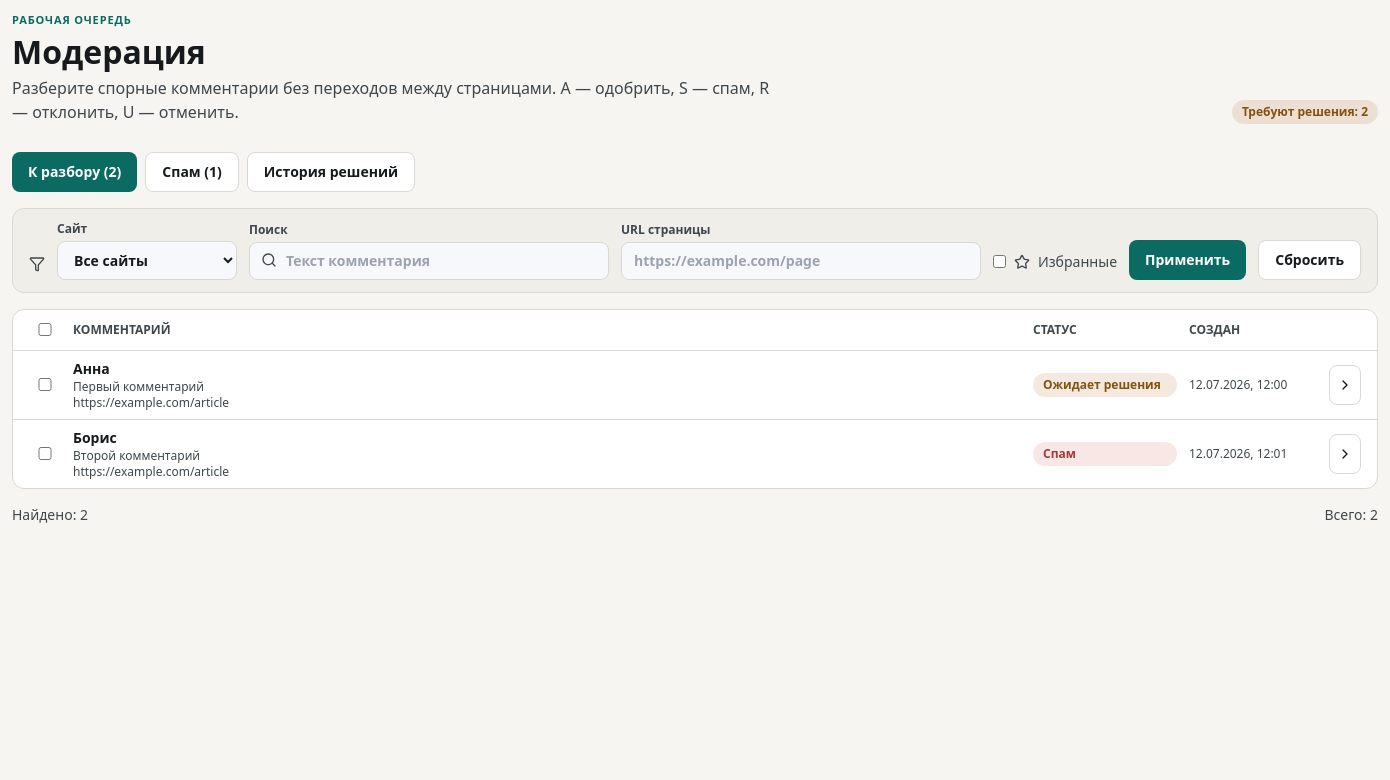
Test: страница модерации › показывает частичные ошибки массового действия и оставляет неудавшиеся строки выбранными
Expected: the text "Первый комментарий" is shown, [73, 378, 204, 395]
Step 1. Click the checkbox named "Выбрать комментарий Анна" → (45, 385), box [29, 378, 61, 391]
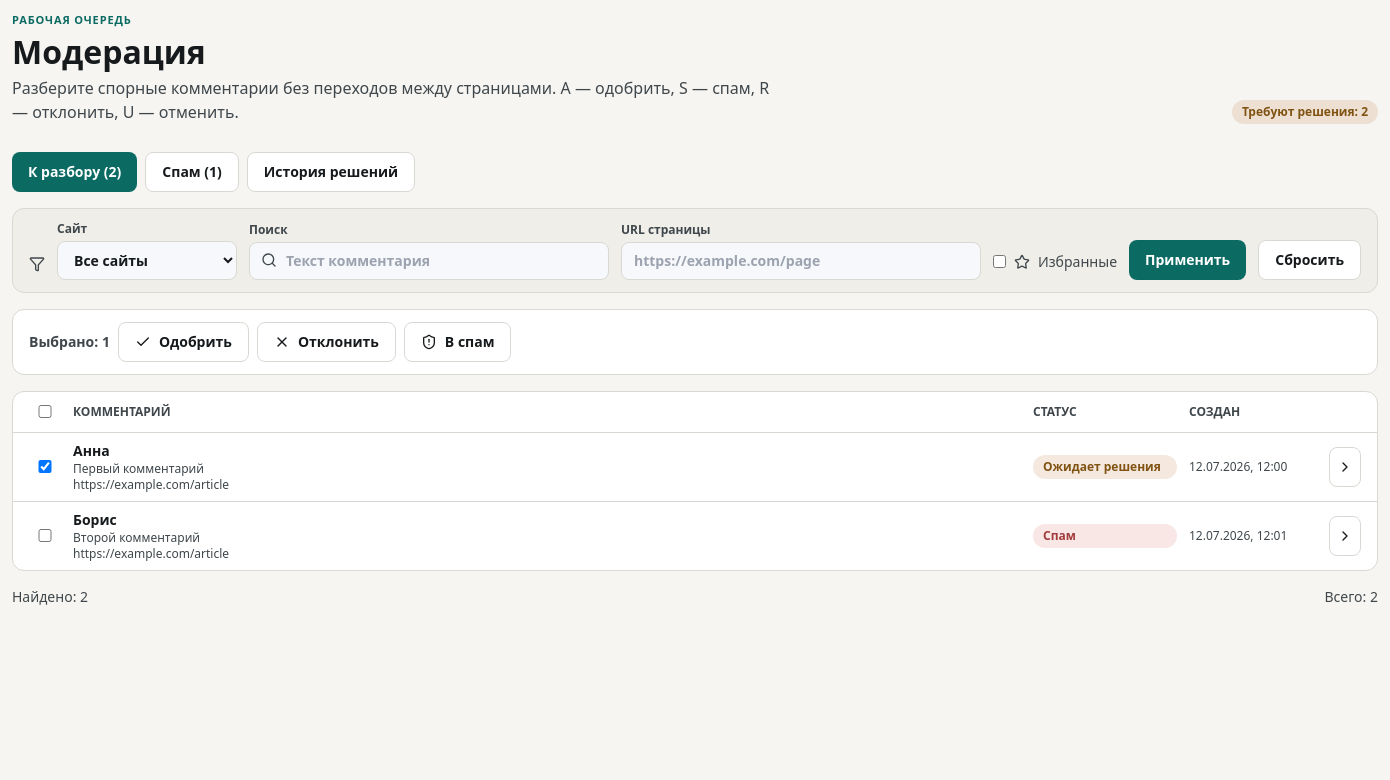
Step 2. Click the checkbox named "Выбрать комментарий Борис" → (45, 536), box [29, 529, 61, 542]
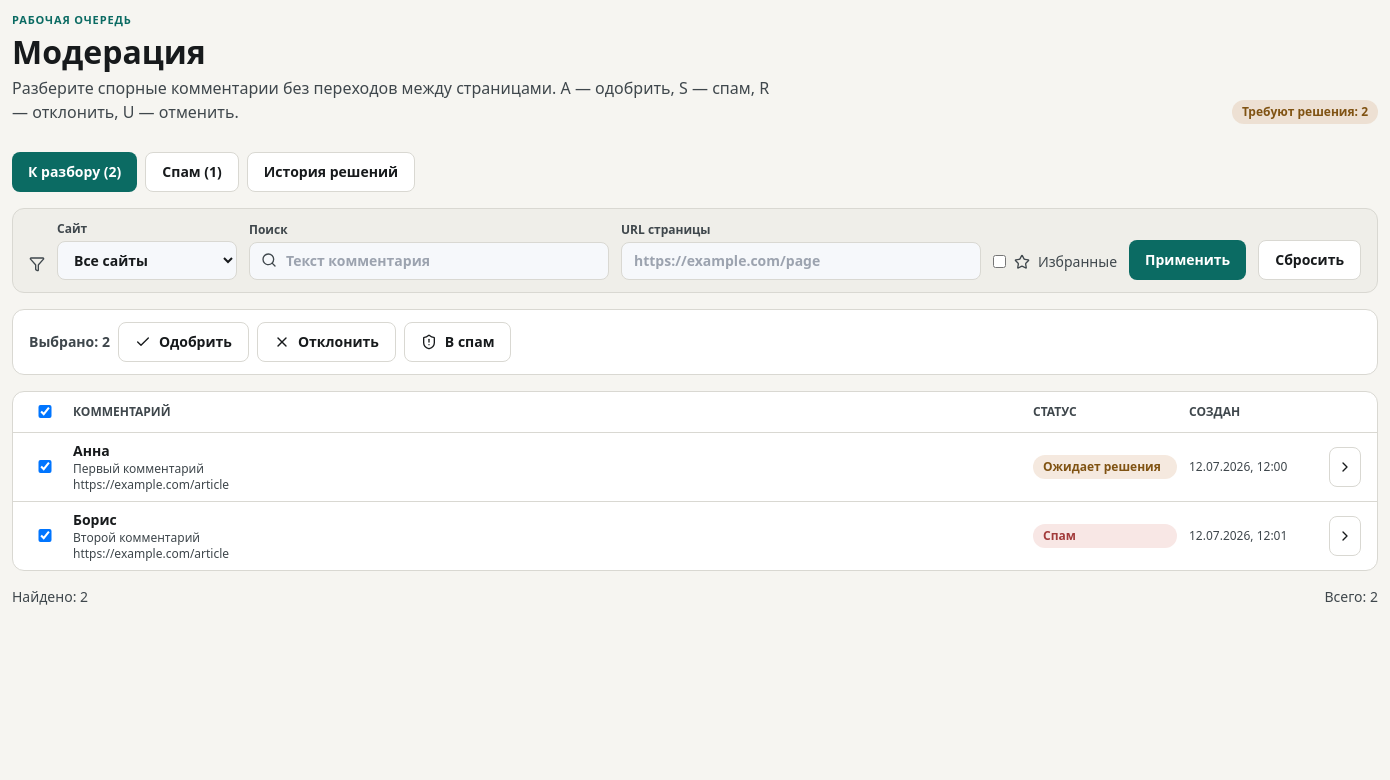
Step 3. Click the button "Одобрить" → (183, 342), box [118, 322, 249, 362]
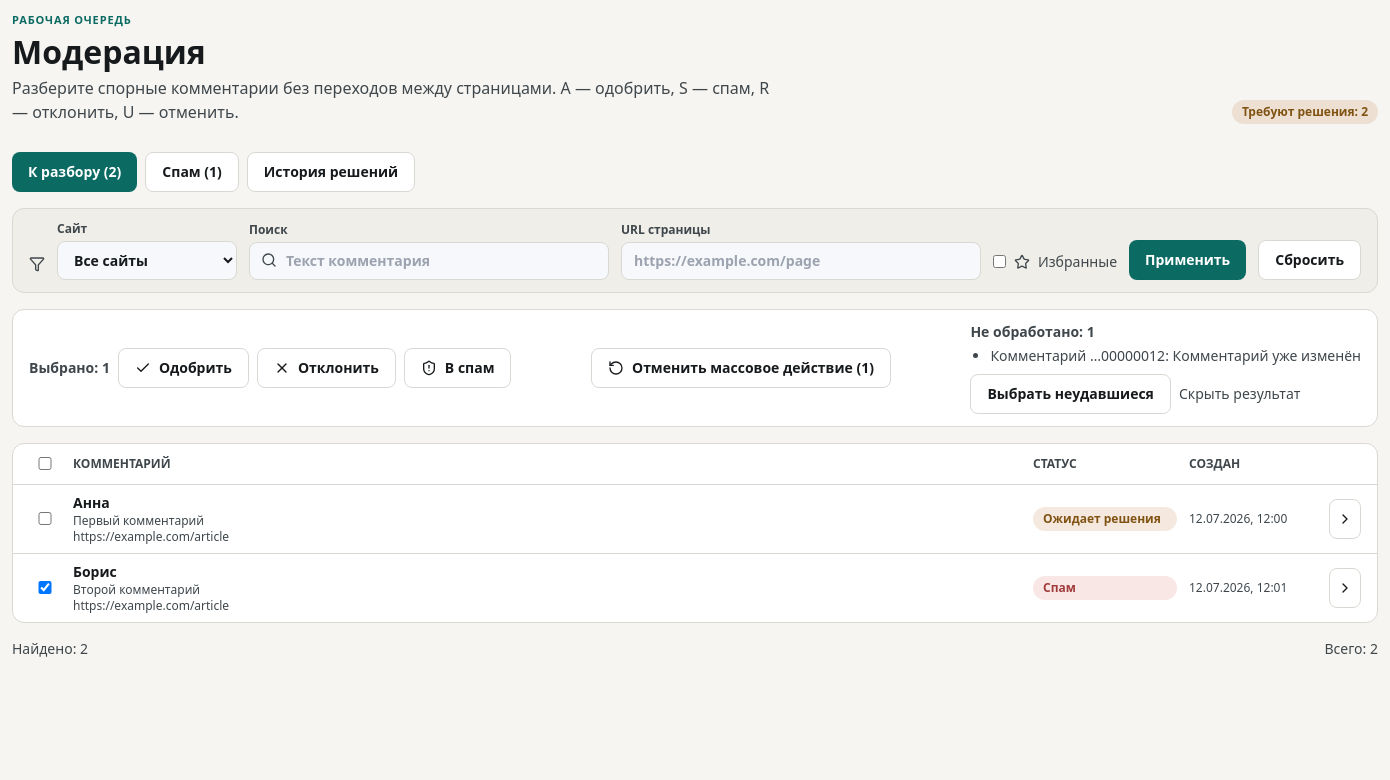
Now the checkbox named "Выбрать комментарий Борис" is checked, box [29, 581, 61, 594]
Now the text "Не обработано: 1" is shown, box [970, 322, 1095, 341]
Now the list item "Комментарий …00000012: Комментарий уже изменён" is shown, box [990, 346, 1361, 366]
